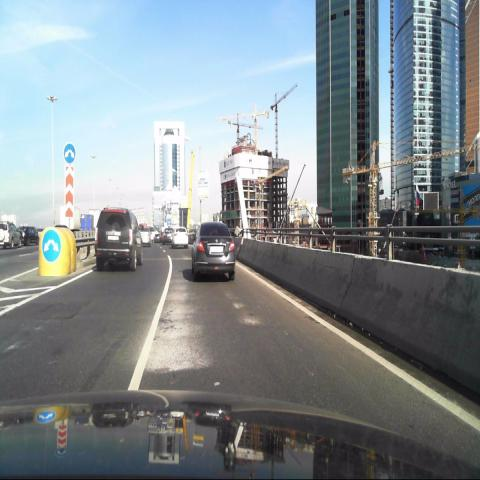4_2_3: (64, 143, 76, 164)
